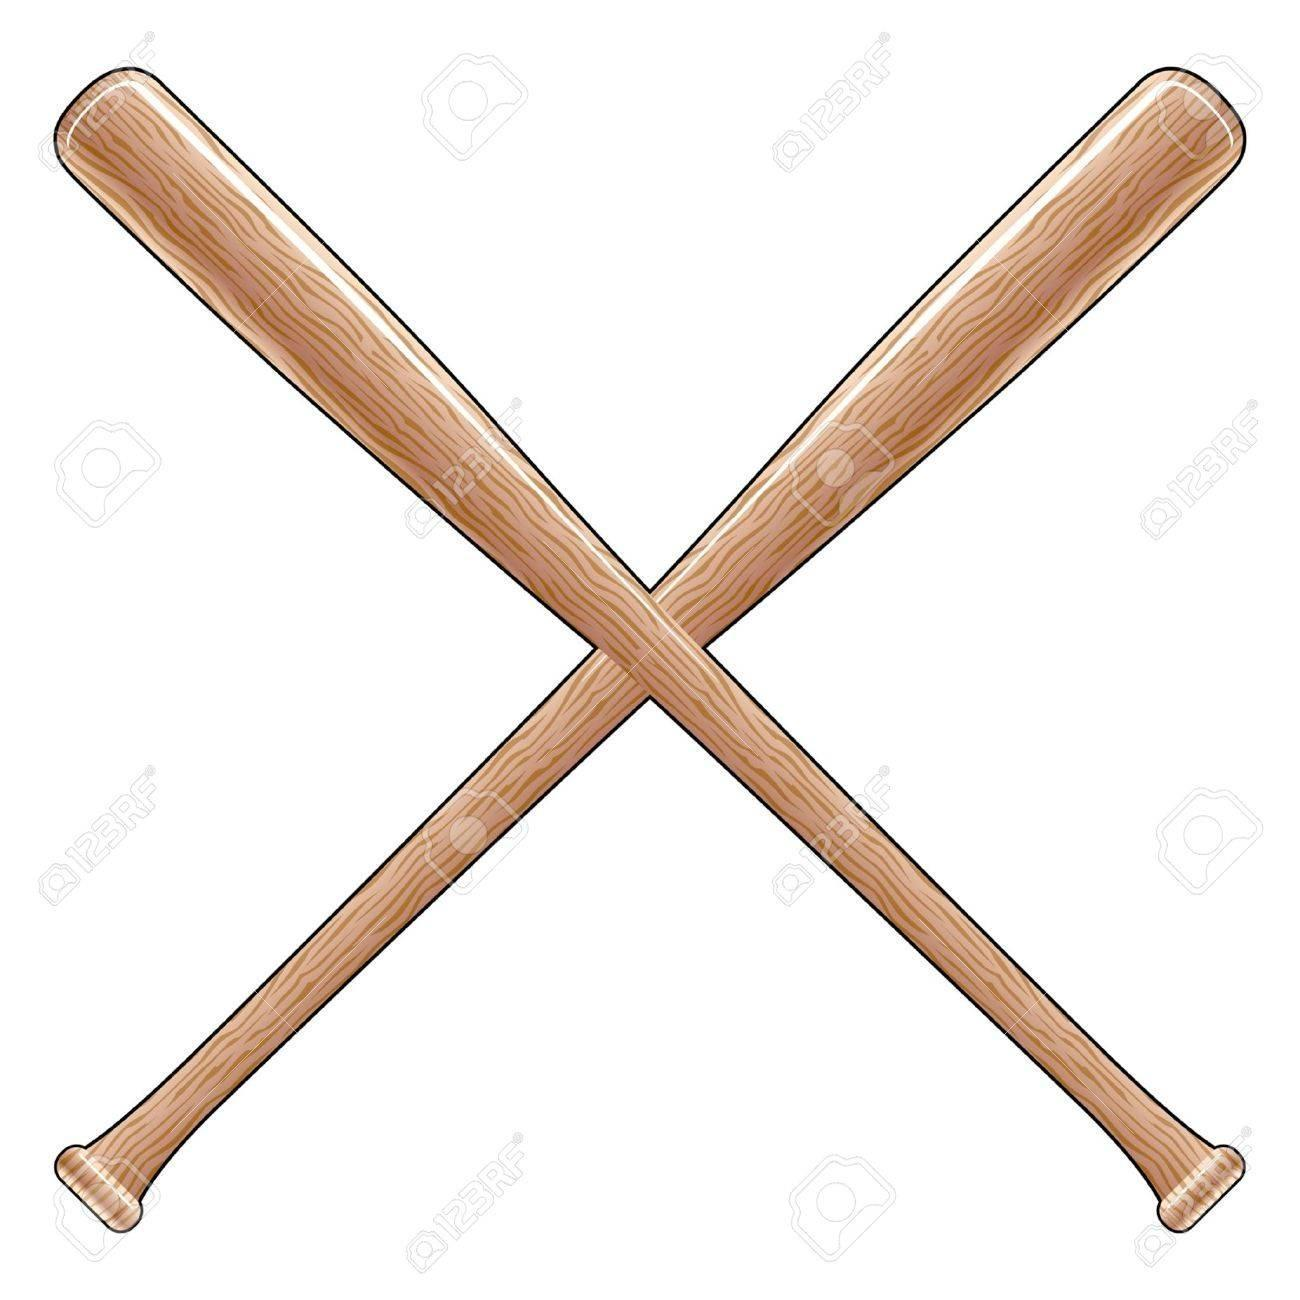Baseball-Bat: (50, 64, 1250, 1240), (48, 70, 1249, 1238)
